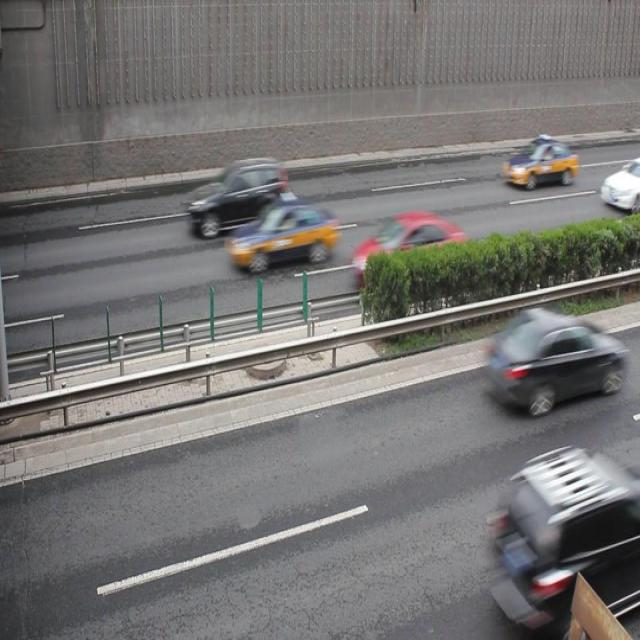car: (482, 447, 640, 640), (483, 305, 627, 411), (351, 212, 466, 289), (186, 154, 290, 238), (227, 195, 338, 273), (502, 135, 577, 189), (598, 156, 640, 212)
